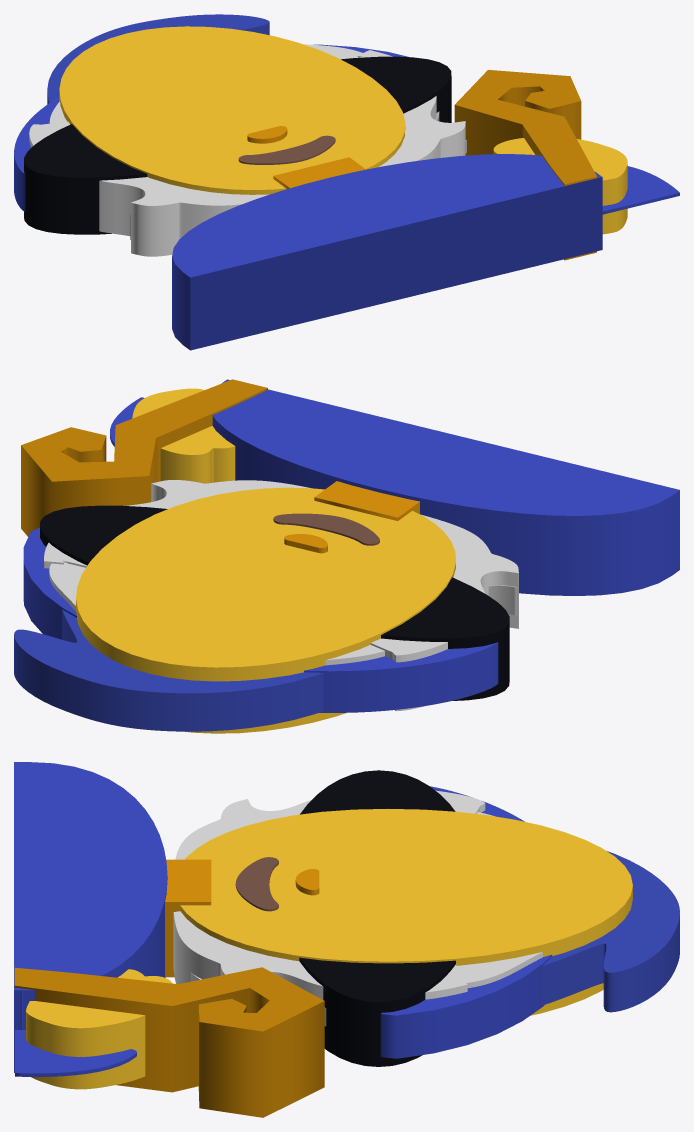
The model's file is emoji_u1f9d9.glb.
3 views of the same model, one above another, from view 1: azimuth 30°, elevation 25°; view 2: azimuth 150°, elevation 25°; view 3: azimuth 270°, elevation 25° (orthographic). The views are drawn at different scales.
Parts seen in each view (by area): view 1: emoji_u1f9d9; view 2: emoji_u1f9d9; view 3: emoji_u1f9d9.
Boxes of the visible parts, x1,y1,x2,y2 form: emoji_u1f9d9: [14, 14, 679, 350]; emoji_u1f9d9: [14, 379, 679, 733]; emoji_u1f9d9: [14, 762, 679, 1117].
Size of the model in its own units: 0.0325 by 0.0048 by 0.0336.
